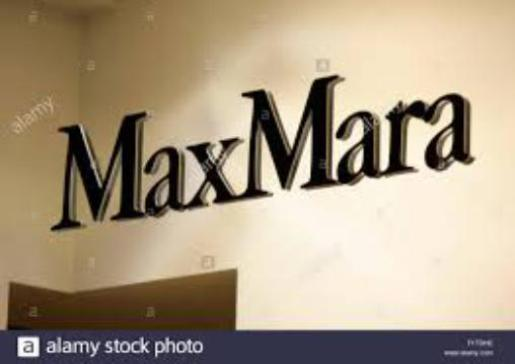MAX-MARA: (47, 75, 473, 233)
